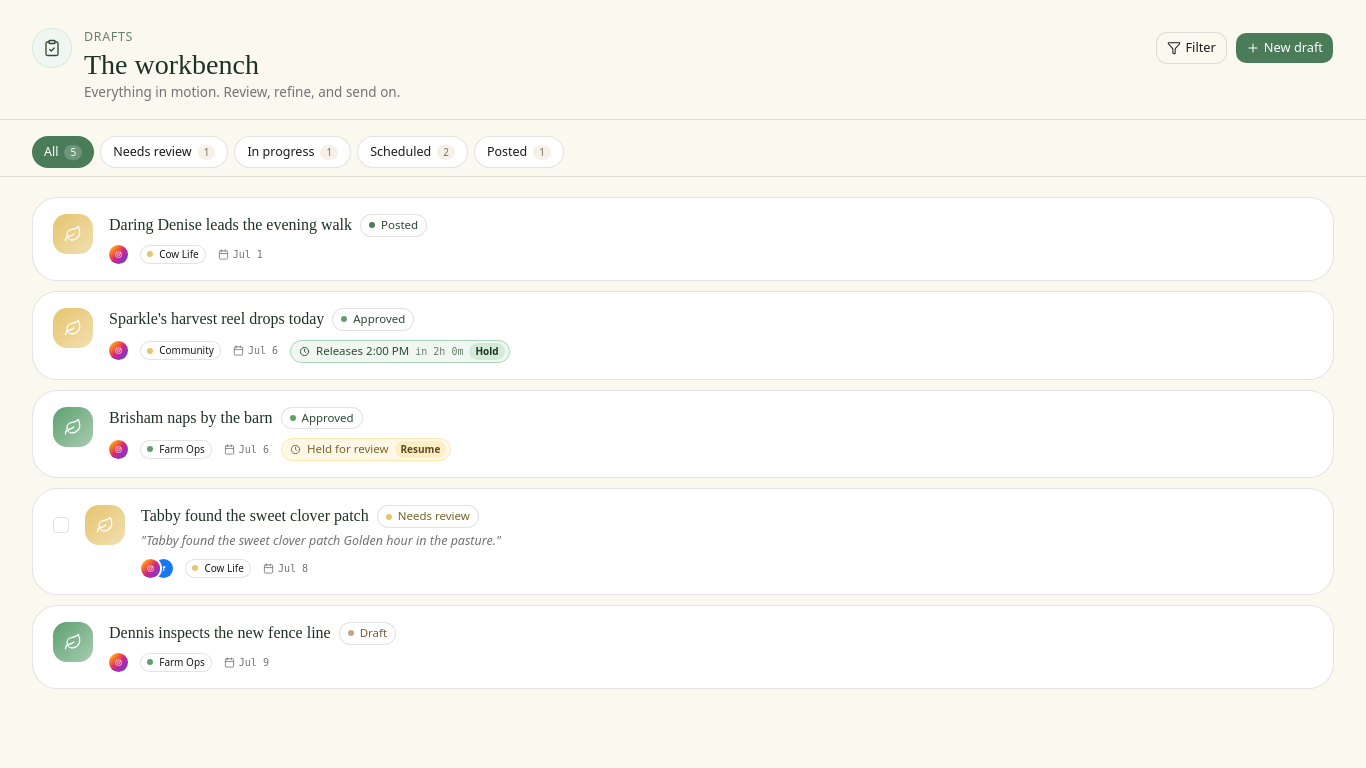
DraftsPage › filters rows by status when a pill is clicked
Check: the heading "Tabby found the sweet clover patch" is shown, box [141, 506, 369, 527]
Click the button "Posted 1". click: (519, 152)
box: [474, 136, 564, 168]
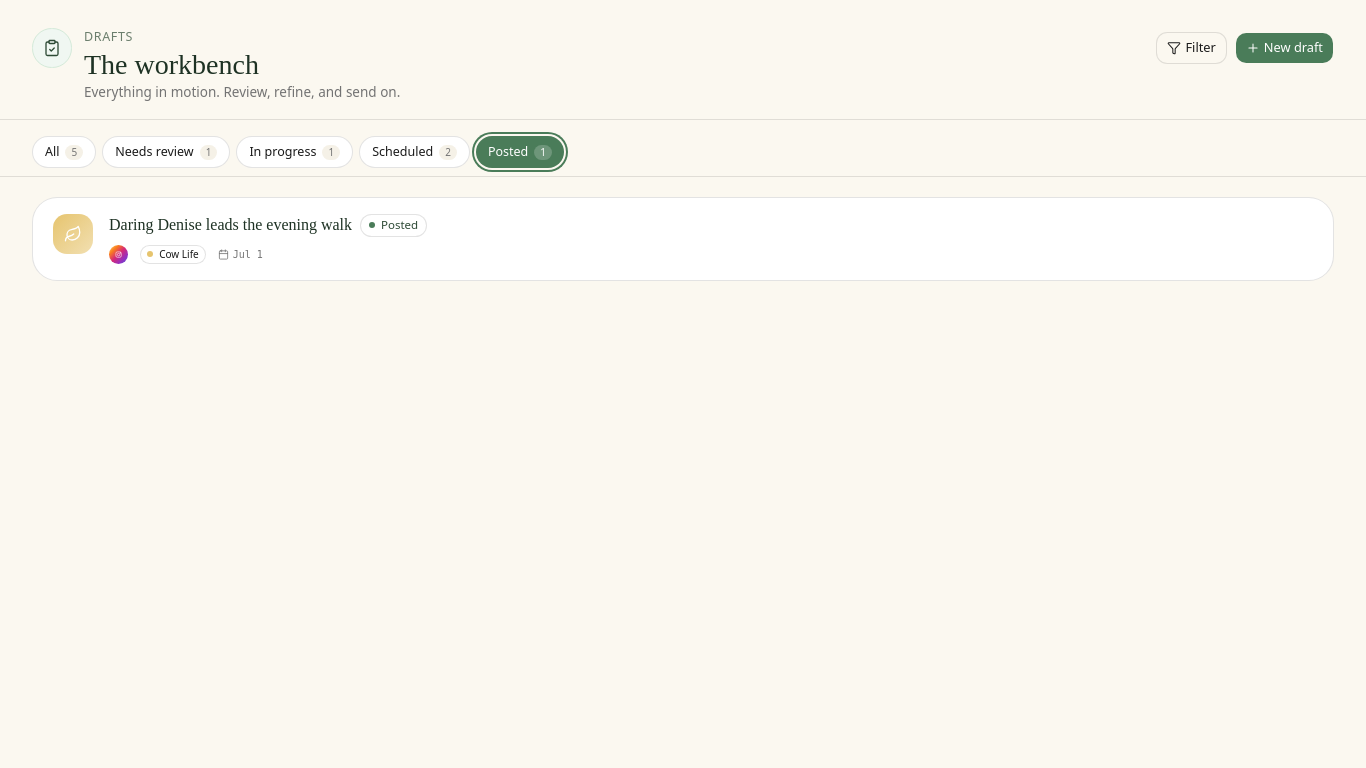
Check: the heading "Daring Denise leads the evening walk" is shown, box [109, 215, 352, 236]
Check: the button "Tabby found the sweet clover" is gone
Check: the button "Dennis inspects the new fence" is gone
